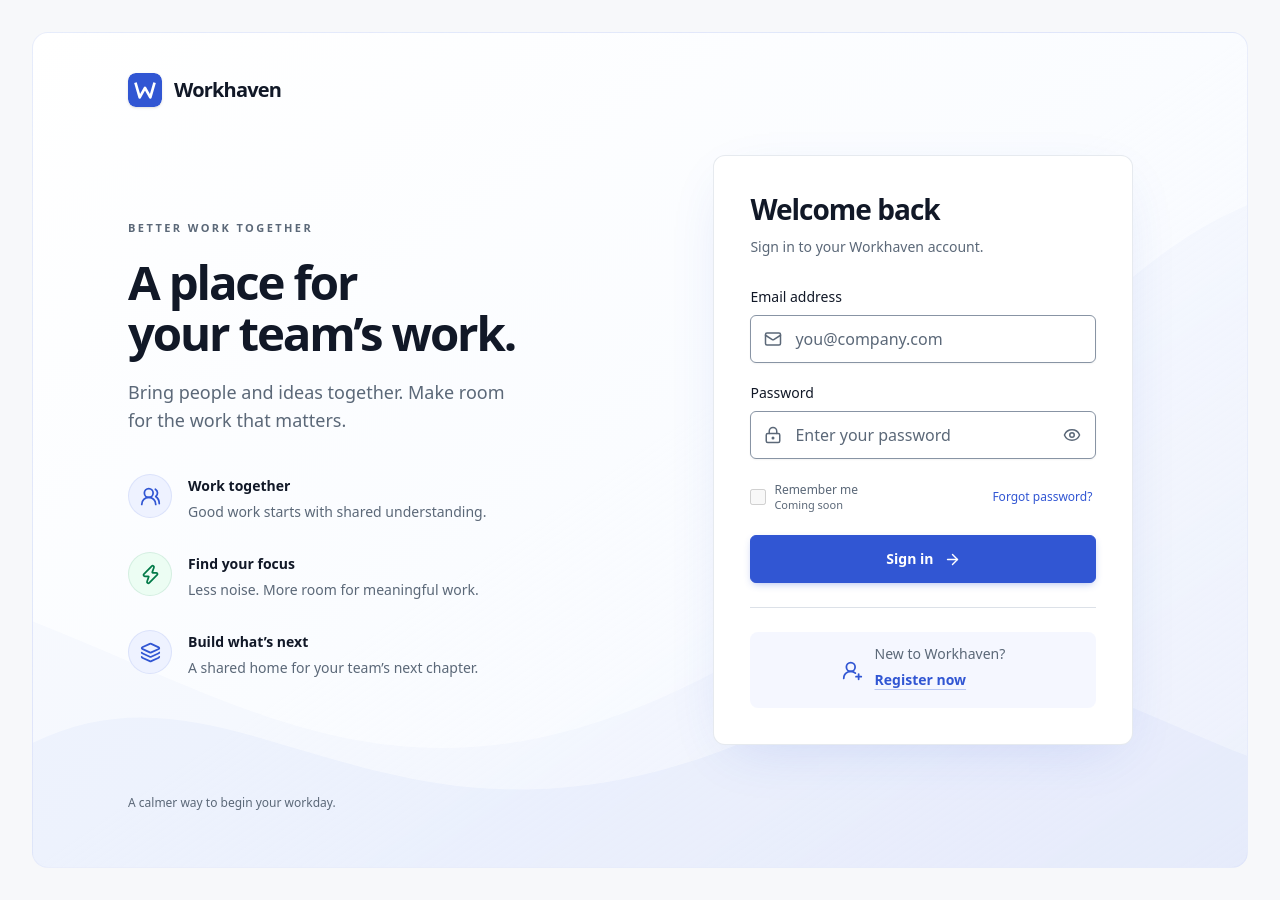
Test: browser session › retains the masked password for correction and retry after sign-in HTTP 401
In the field labelled "Email address": (923, 339) top-left (750, 315), bottom-right (1096, 363), type "member@example.test"
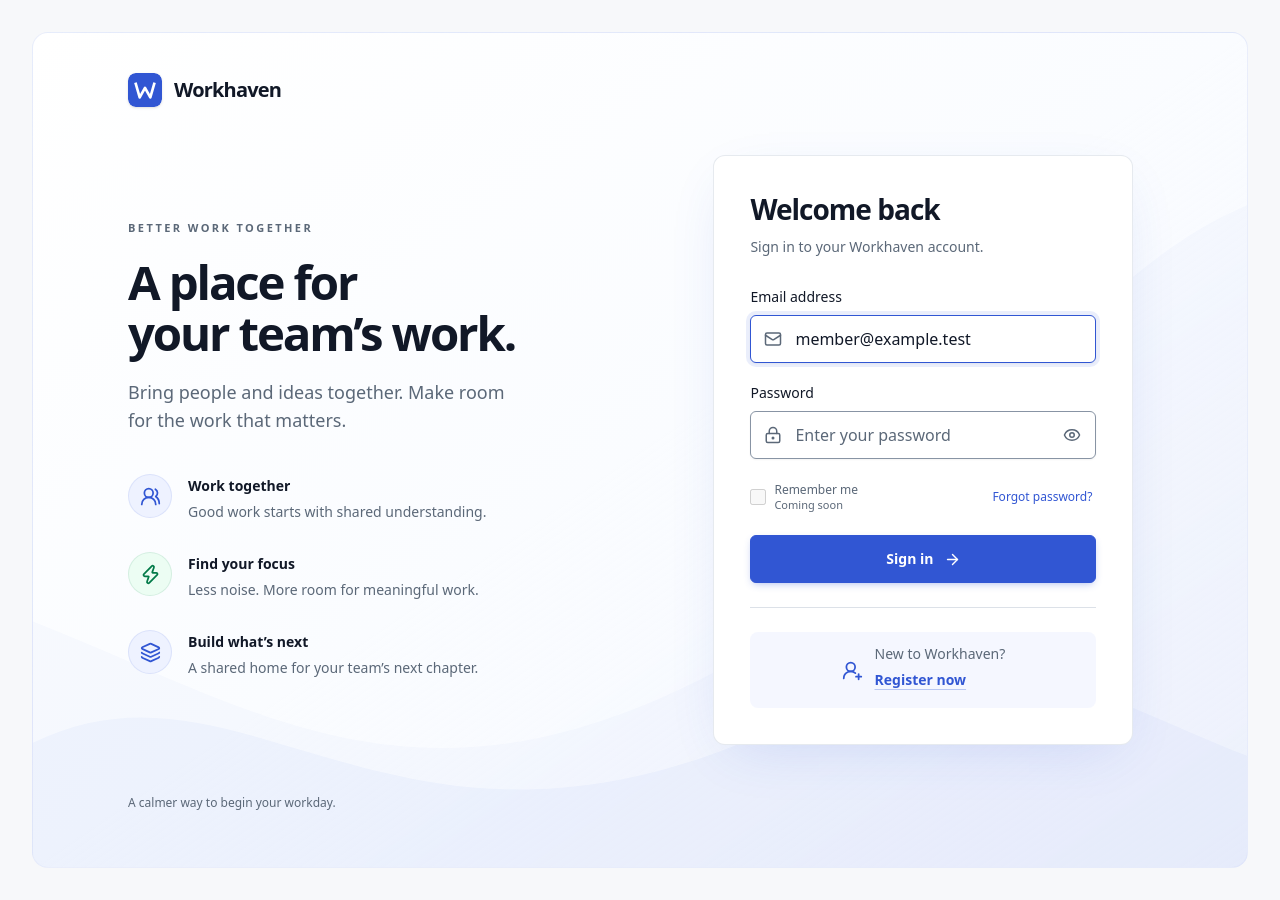
In the password field labelled "Password": (923, 435) top-left (750, 411), bottom-right (1096, 459), type " a long test passphrase "
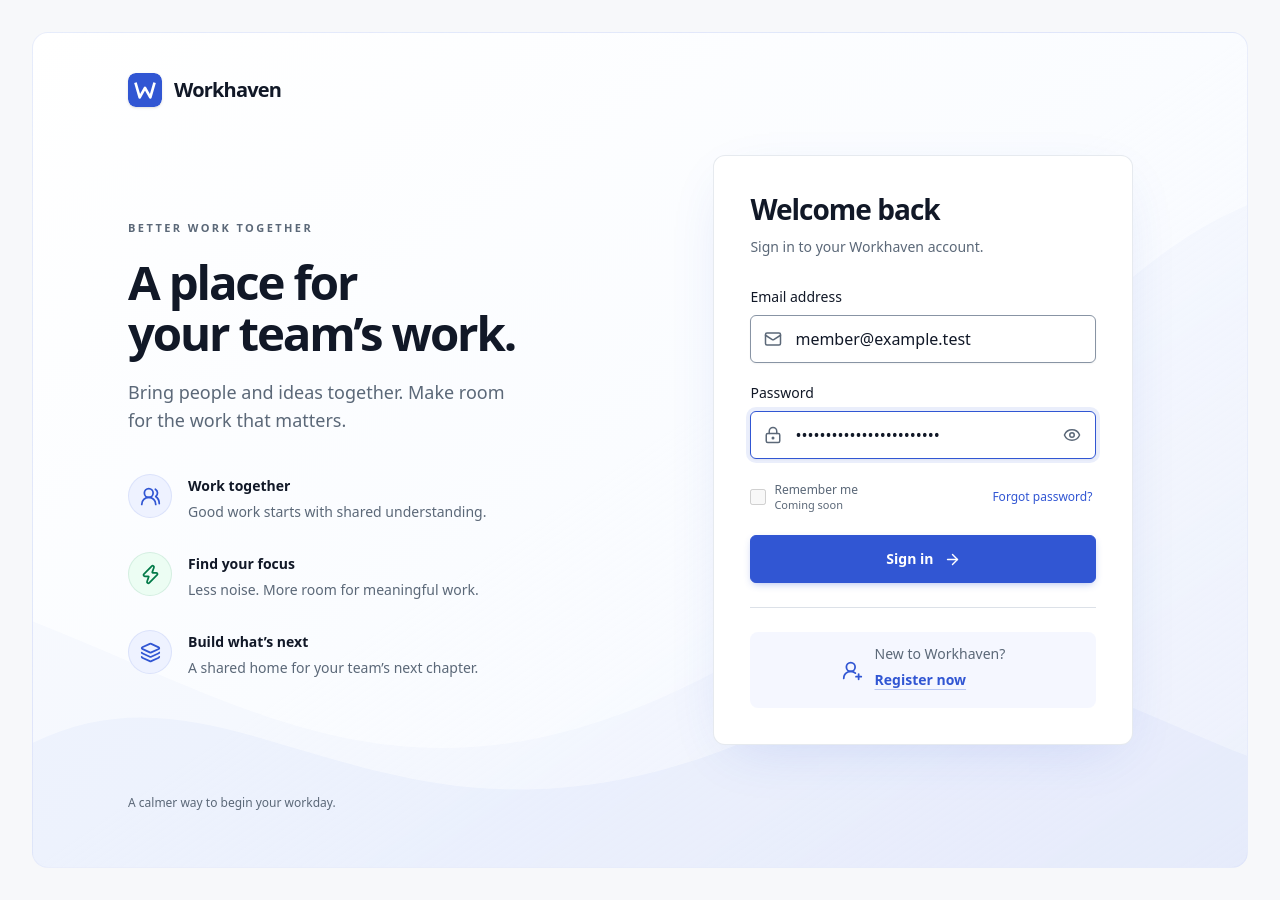
Click the button "Sign in": (923, 559) top-left (750, 535), bottom-right (1096, 583)
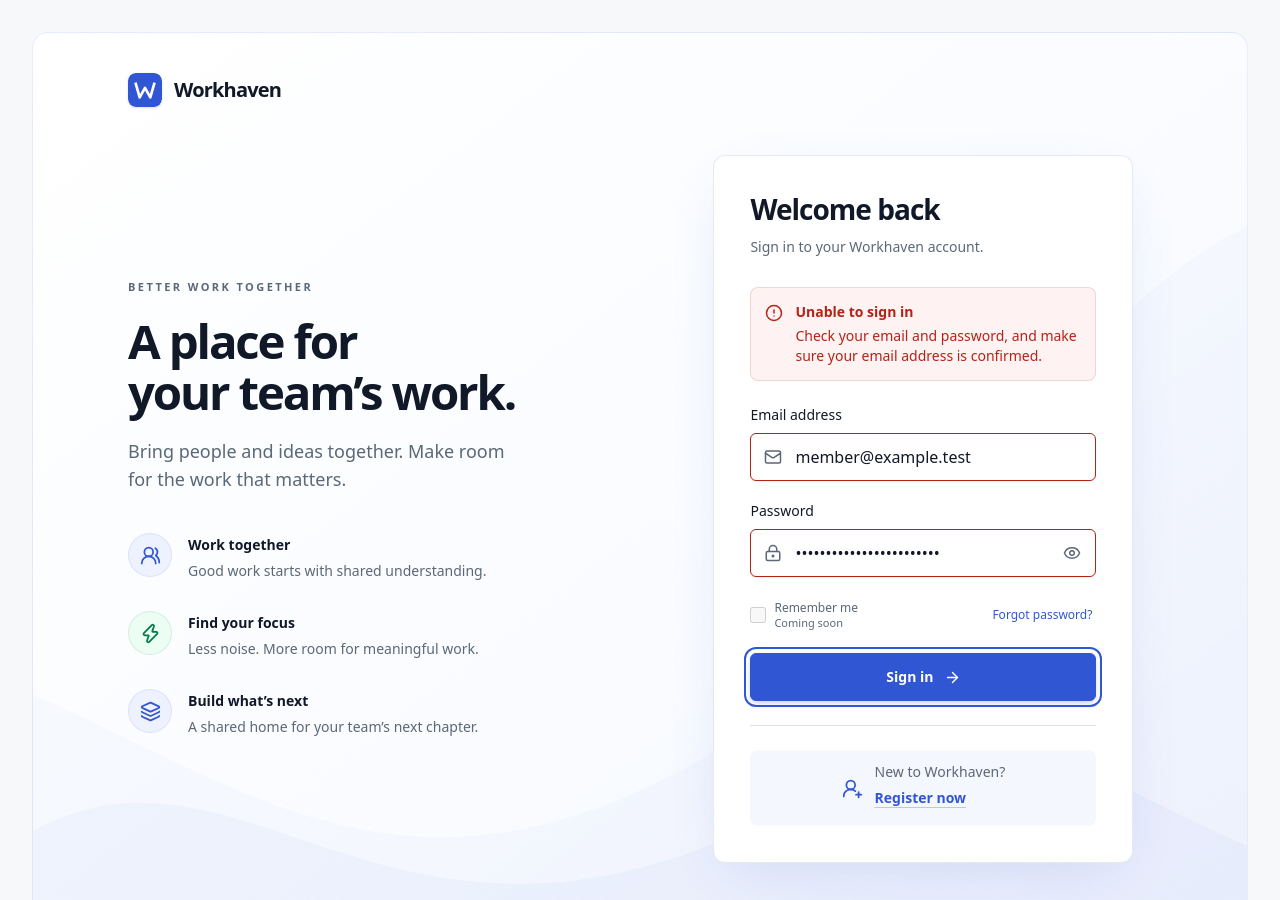
Expected: the message shows "Check your email and password", top-left (795, 326), bottom-right (1077, 365)
In the password field labelled "Password": (923, 553) top-left (750, 529), bottom-right (1096, 577), type " corrected"
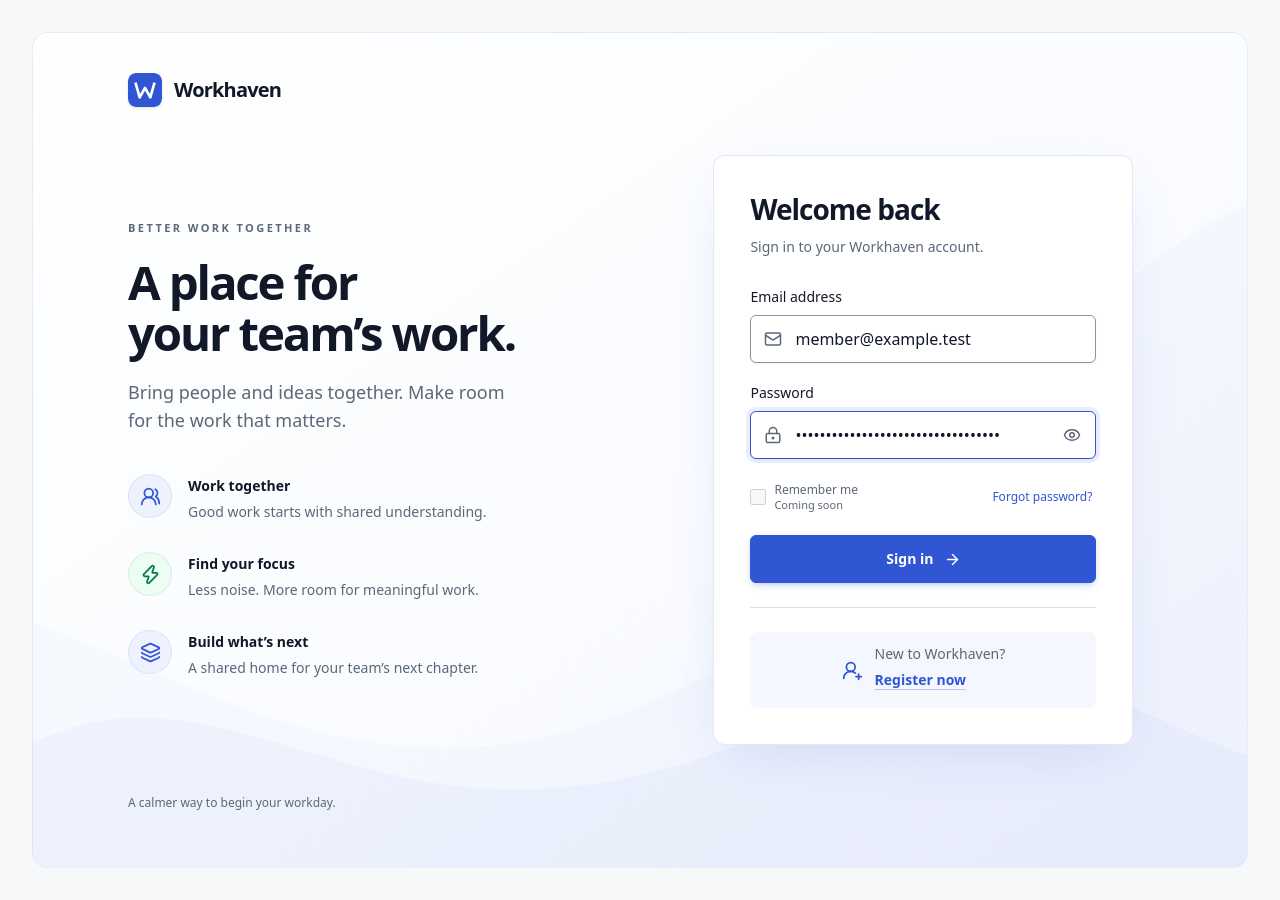
Expected: the message is gone
Click the button "Sign in": (923, 559) top-left (750, 535), bottom-right (1096, 583)
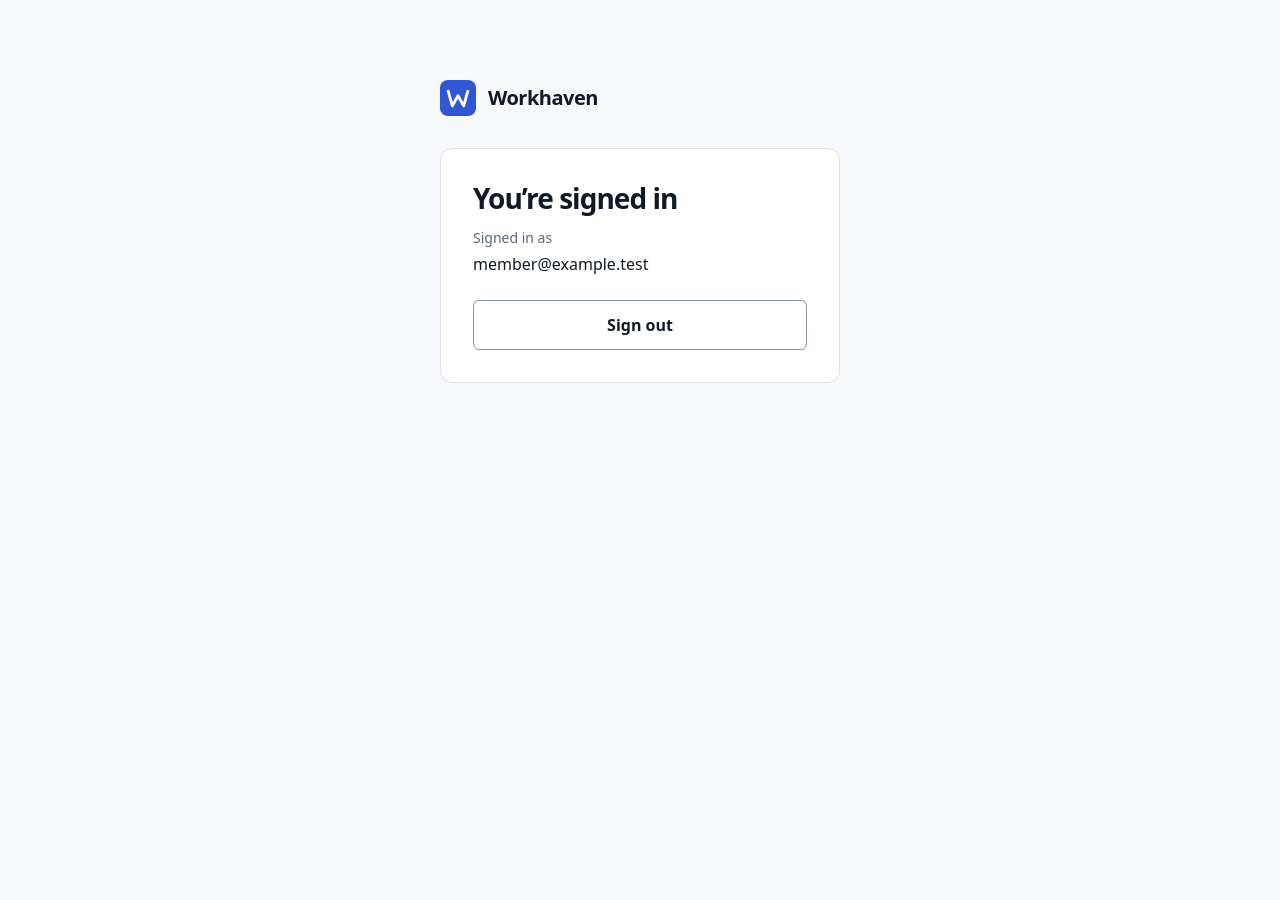
Expected: the heading "You’re signed in" is shown, top-left (473, 179), bottom-right (677, 217)
